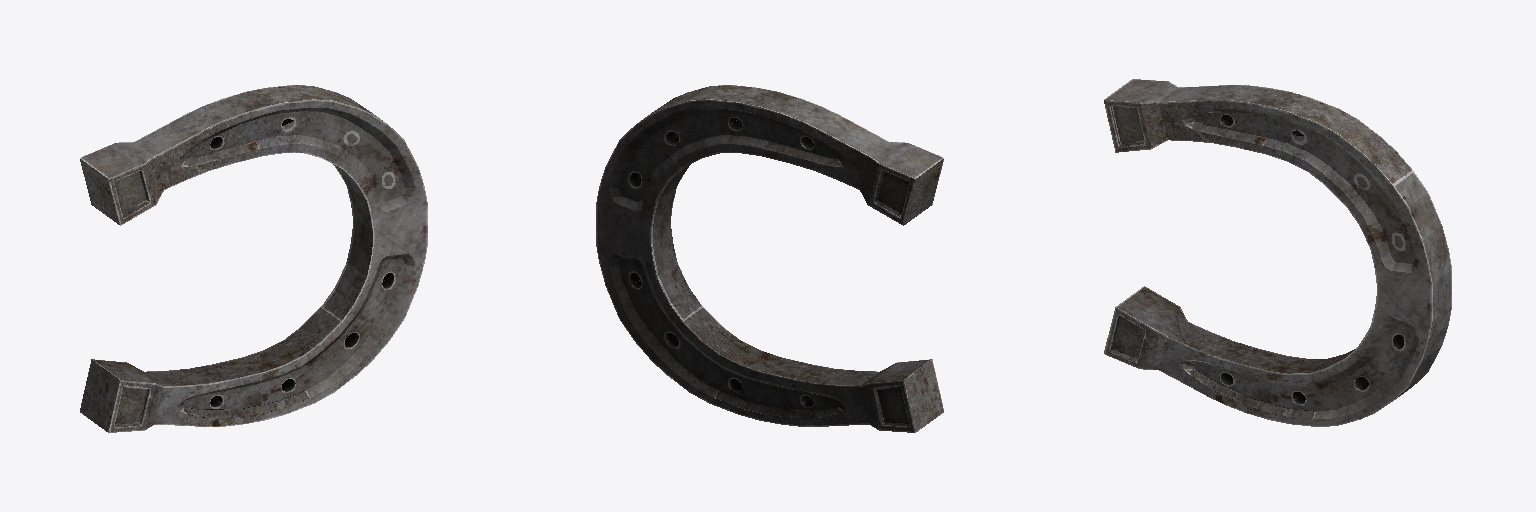
3 renders of one model, left to right at view 1: azimuth 30°, elevation 25°; view 2: azimuth 150°, elevation 25°; view 3: azimuth 330°, elevation 25°, orthographic.
Parts seen in each view (by area): view 1: Cube; view 2: Cube; view 3: Cube.
Part boxes in pixels (left/top/right/bottom): Cube: left=80, top=85, right=427, bottom=432; Cube: left=596, top=85, right=943, bottom=432; Cube: left=1104, top=79, right=1451, bottom=426.
Bounding box in the file's own units: 13.14 × 12.15 × 2.03.
1 materials, 1 textured.